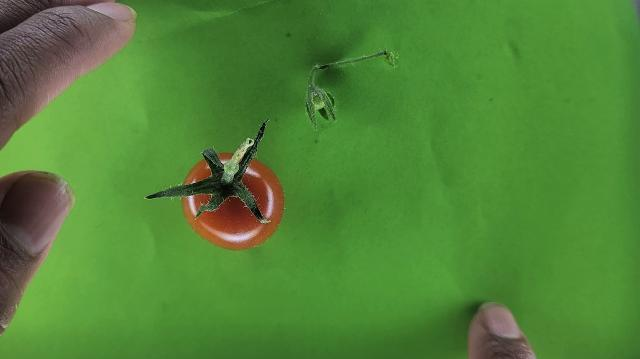Fruit Bud: (311, 89, 335, 120)
Fully Grown: (180, 152, 285, 251)
